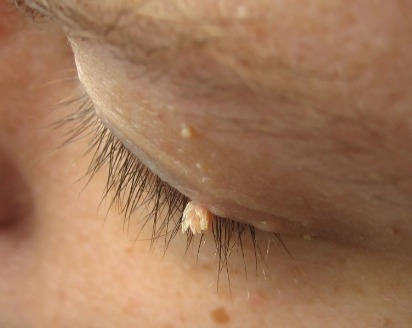Warts: (167, 193, 220, 243)
